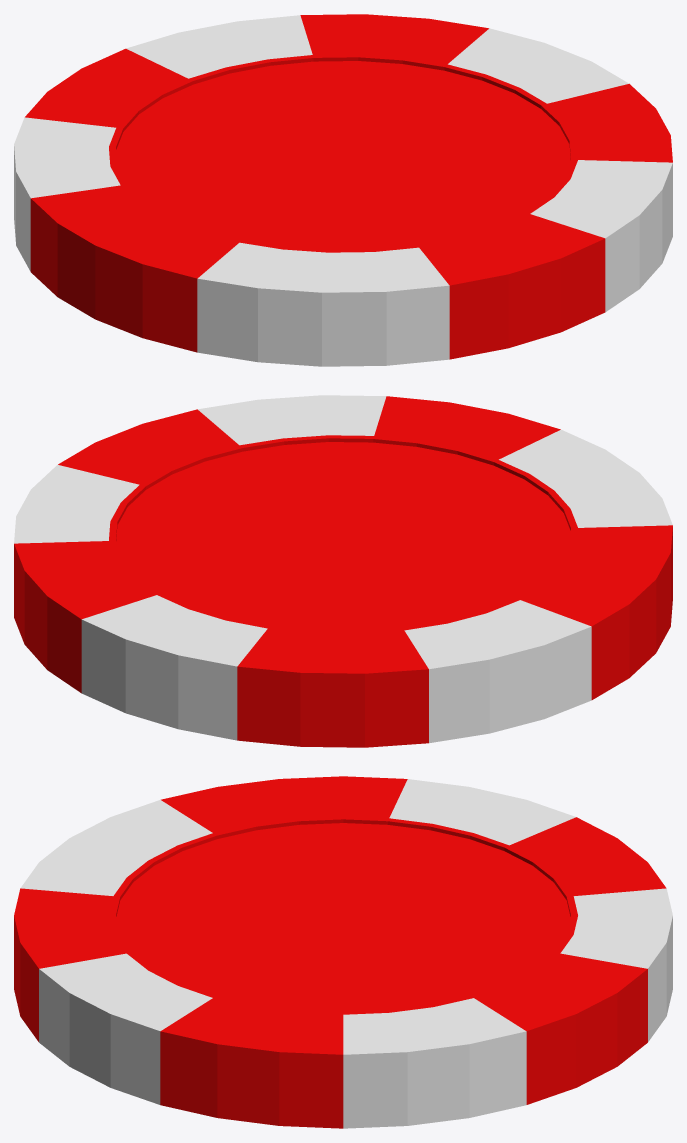
File: pp.poker_chip_aser.glb
3 renders of one model, top to bottom at view 1: azimuth 30°, elevation 25°; view 2: azimuth 150°, elevation 25°; view 3: azimuth 270°, elevation 25°, orthographic.
Parts seen in each view (by area): view 1: Cylinder001; view 2: Cylinder001; view 3: Cylinder001.
Part boxes in pixels (left/top/right/bottom): Cylinder001: left=14, top=14, right=672, bottom=366; Cylinder001: left=14, top=395, right=672, bottom=747; Cylinder001: left=14, top=776, right=672, bottom=1128.
Bounding box in the file's own units: 0.04 × 0.00495 × 0.04.
